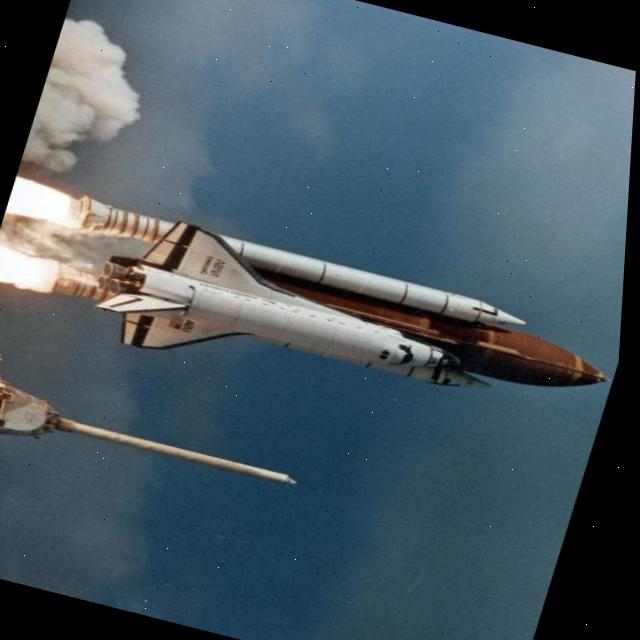missile: (39, 177, 624, 456)
